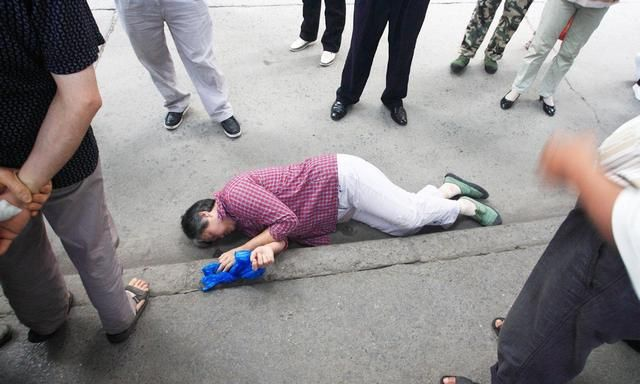falling: (177, 169, 519, 285)
standing: (9, 4, 178, 363), (125, 1, 255, 151), (340, 1, 420, 144), (527, 1, 589, 120)
